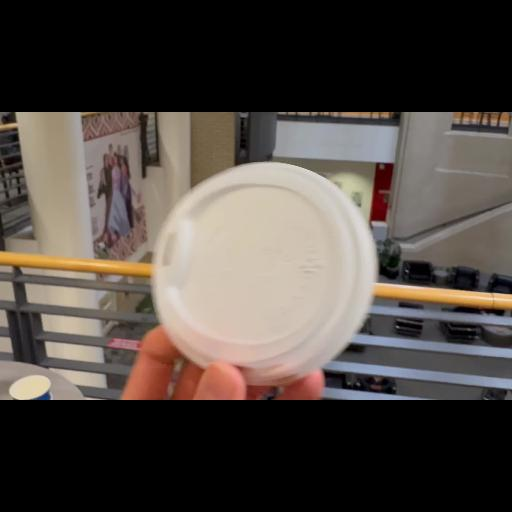lp_cup_lids: (140, 160, 380, 386)
